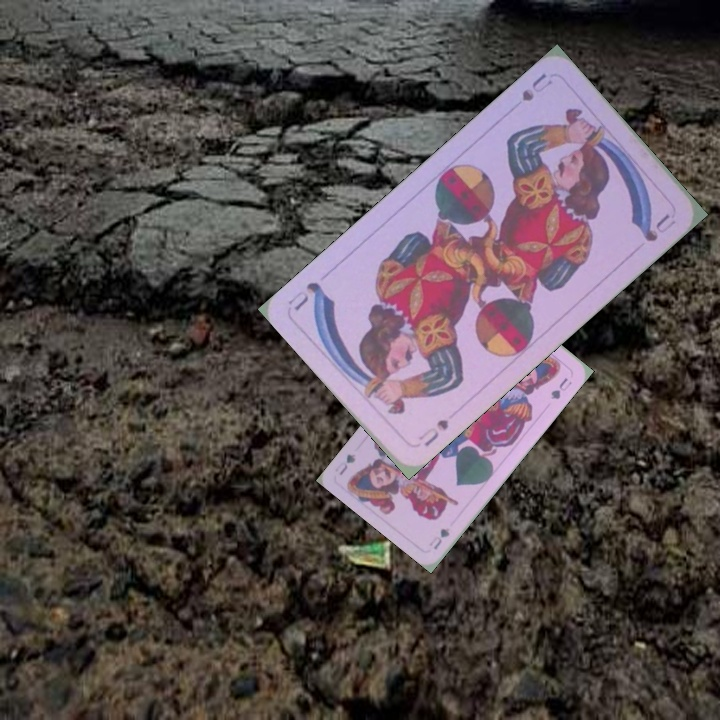GU: (425, 524, 452, 552)
SU: (517, 69, 555, 104), (414, 415, 452, 450)
